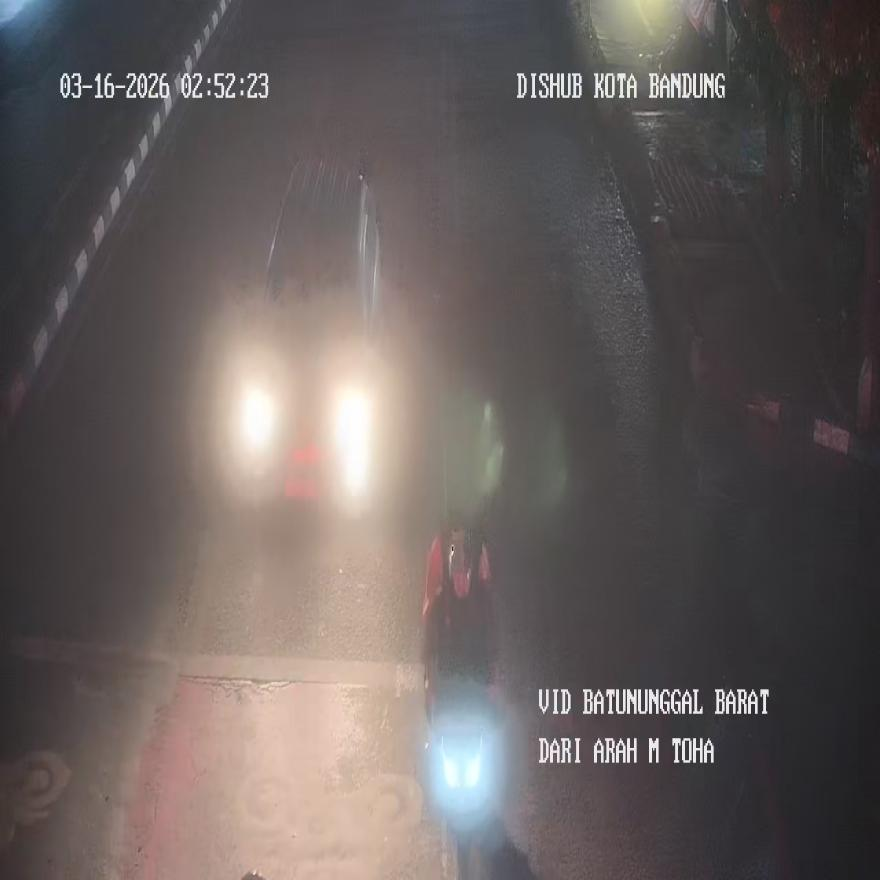Mobil: (220, 154, 385, 513)
Motor: (425, 683, 495, 813)
